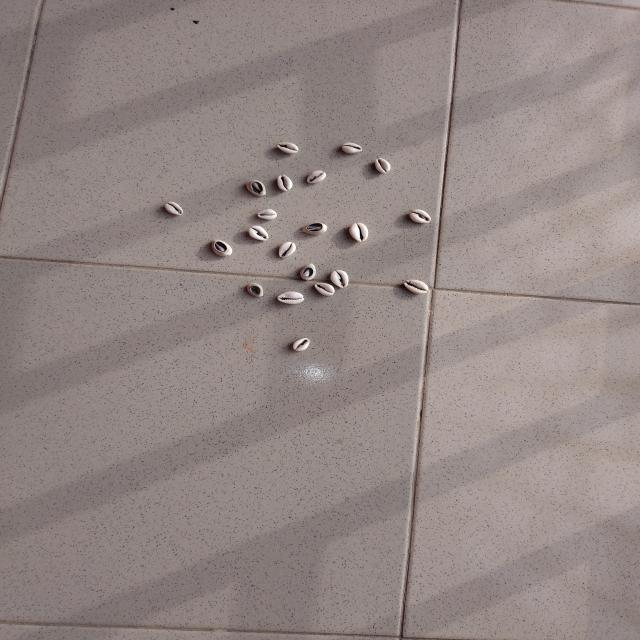facedown: (244, 178, 268, 198), (210, 238, 233, 258), (298, 262, 319, 282), (300, 222, 329, 236), (245, 282, 266, 298)
faceup: (402, 278, 431, 296), (346, 222, 369, 243), (276, 290, 306, 305), (408, 208, 433, 224), (276, 241, 299, 258), (247, 225, 270, 242), (329, 270, 350, 288), (164, 200, 184, 217), (306, 170, 328, 185), (275, 141, 300, 154), (255, 208, 280, 221), (276, 174, 294, 192), (373, 157, 392, 174), (313, 282, 336, 296), (340, 142, 364, 154), (292, 337, 310, 352)
